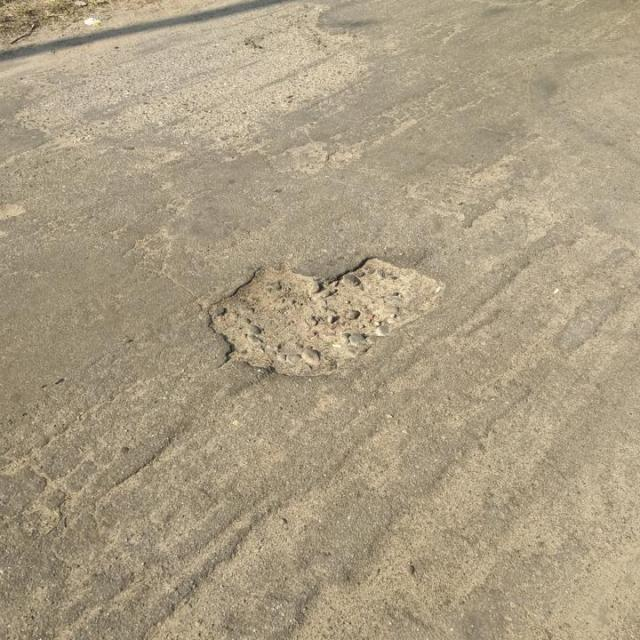pothole: (207, 253, 446, 376)
